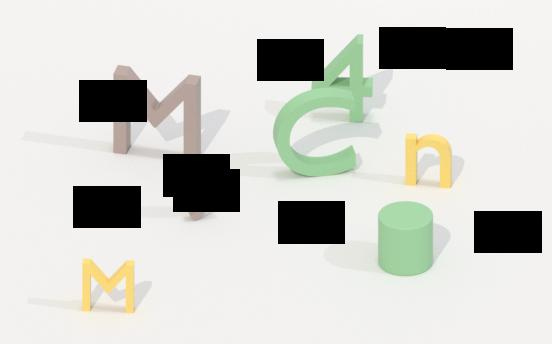4: (310, 29, 377, 126)
9: (179, 161, 221, 227)
M-hoa: (110, 63, 204, 171), (75, 255, 144, 317)
c: (262, 84, 370, 184)
n: (398, 129, 462, 190)
tru: (373, 200, 441, 279)
